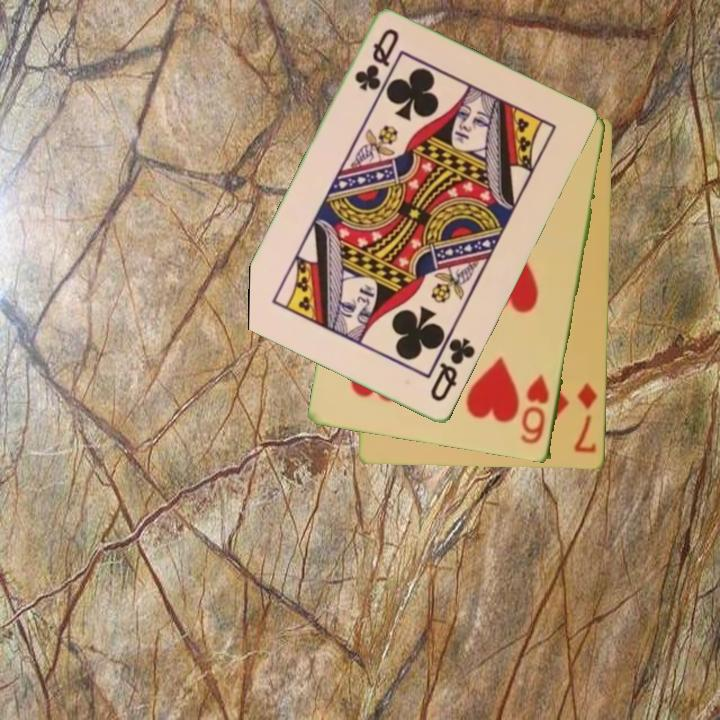6h: (517, 371, 553, 448)
7d: (571, 380, 600, 456)
Qc: (426, 334, 479, 405), (351, 25, 402, 95)
